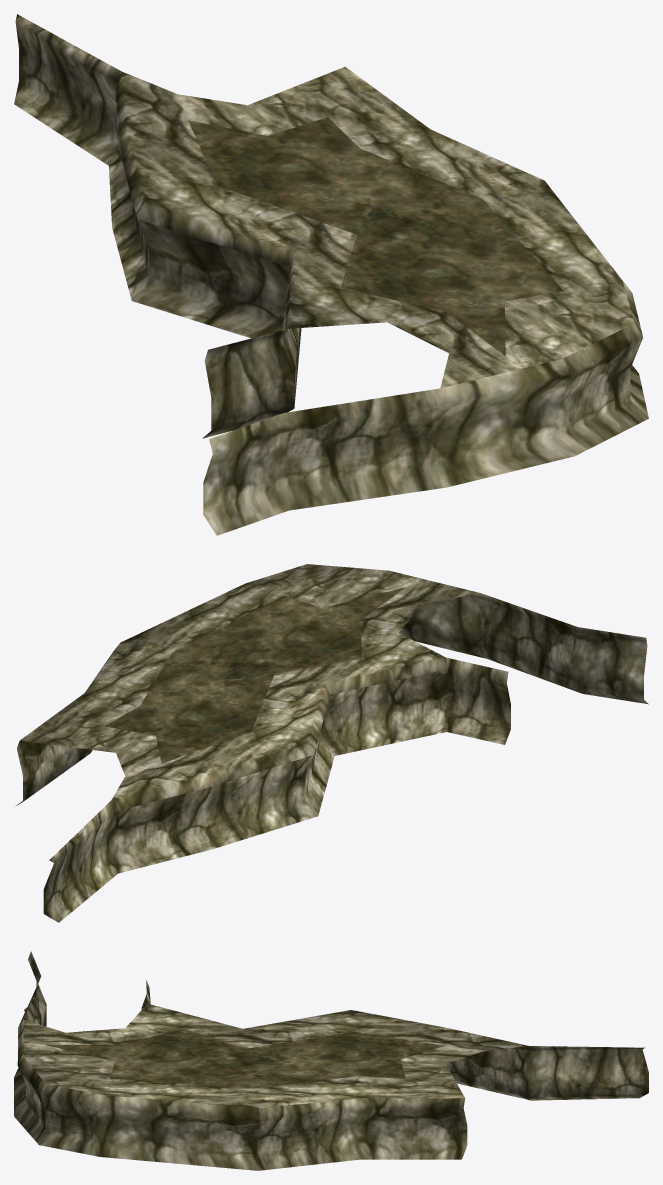
Rendered from CB_NEWPLAYSURFACE_CB_PLAYSURFACE126.fbx.
3 views of the same model, one above another, from view 1: azimuth 30°, elevation 25°; view 2: azimuth 150°, elevation 25°; view 3: azimuth 270°, elevation 25° (orthographic). The views are drawn at different scales.
Visible parts, largest first — view 1: CB_NEWPLAYSURFACE_CB_PLAYSURFACE126; view 2: CB_NEWPLAYSURFACE_CB_PLAYSURFACE126; view 3: CB_NEWPLAYSURFACE_CB_PLAYSURFACE126.
Boxes of the visible parts, x1,y1,x2,y2 form: CB_NEWPLAYSURFACE_CB_PLAYSURFACE126: (14,14,648,535); CB_NEWPLAYSURFACE_CB_PLAYSURFACE126: (16,564,648,922); CB_NEWPLAYSURFACE_CB_PLAYSURFACE126: (14,951,648,1170).
Size of the model in its own units: 176916 by 29558 by 292778.
3 materials, 3 textured.
